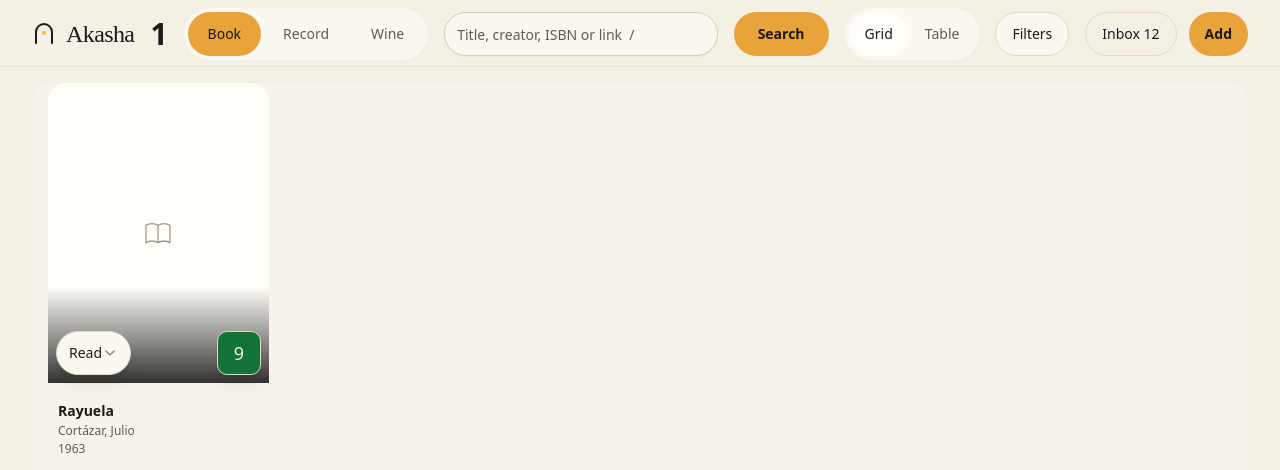
Test: a settled query with nothing local reaches a provider exactly once
This screenshot has width=1280, height=470.
Expected: the heading "Rayuela" is shown, [58,401,114,420]
In the search field: coordinates (581, 34) [444,12,718,56], type "Dune Messiah"
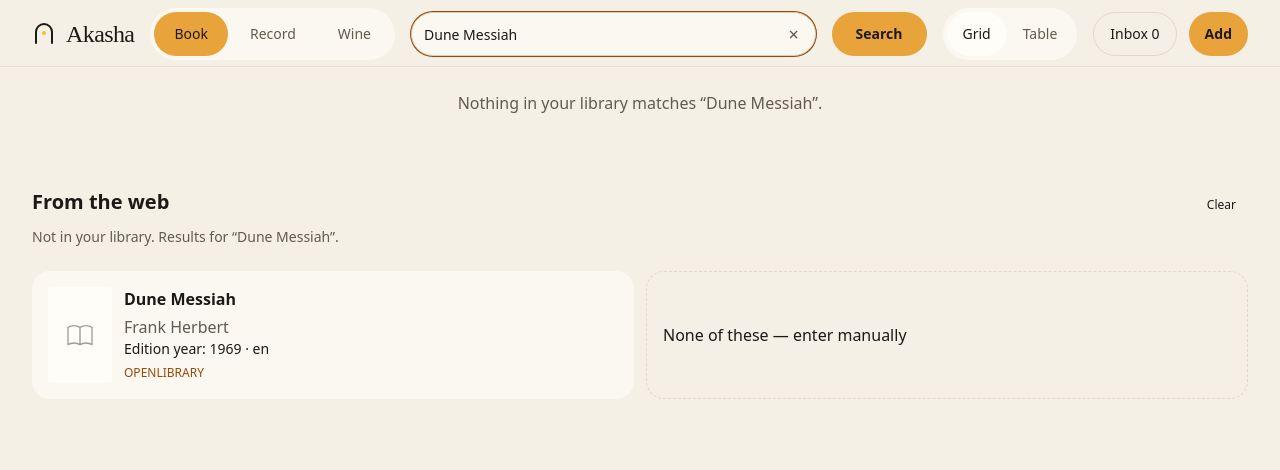
Now the text "Dune Messiah" is shown, box [124,288,236,310]
